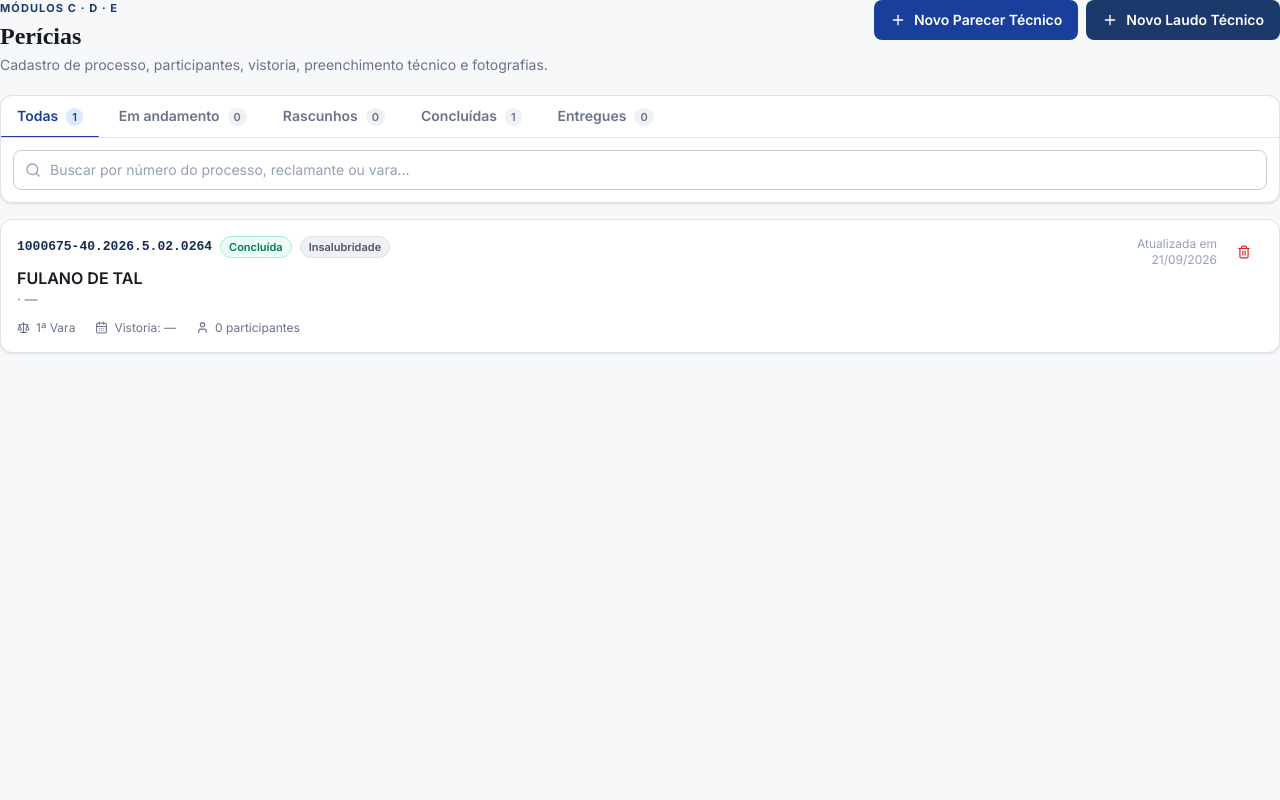
Perícias — exclusão › falha do servidor aparece — não vira um "excluída" que não aconteceu
The width and height of the screenshot is (1280, 800).
Click the button named "Excluir perícia" at coordinates (1244, 252), box [1225,236,1263,268]
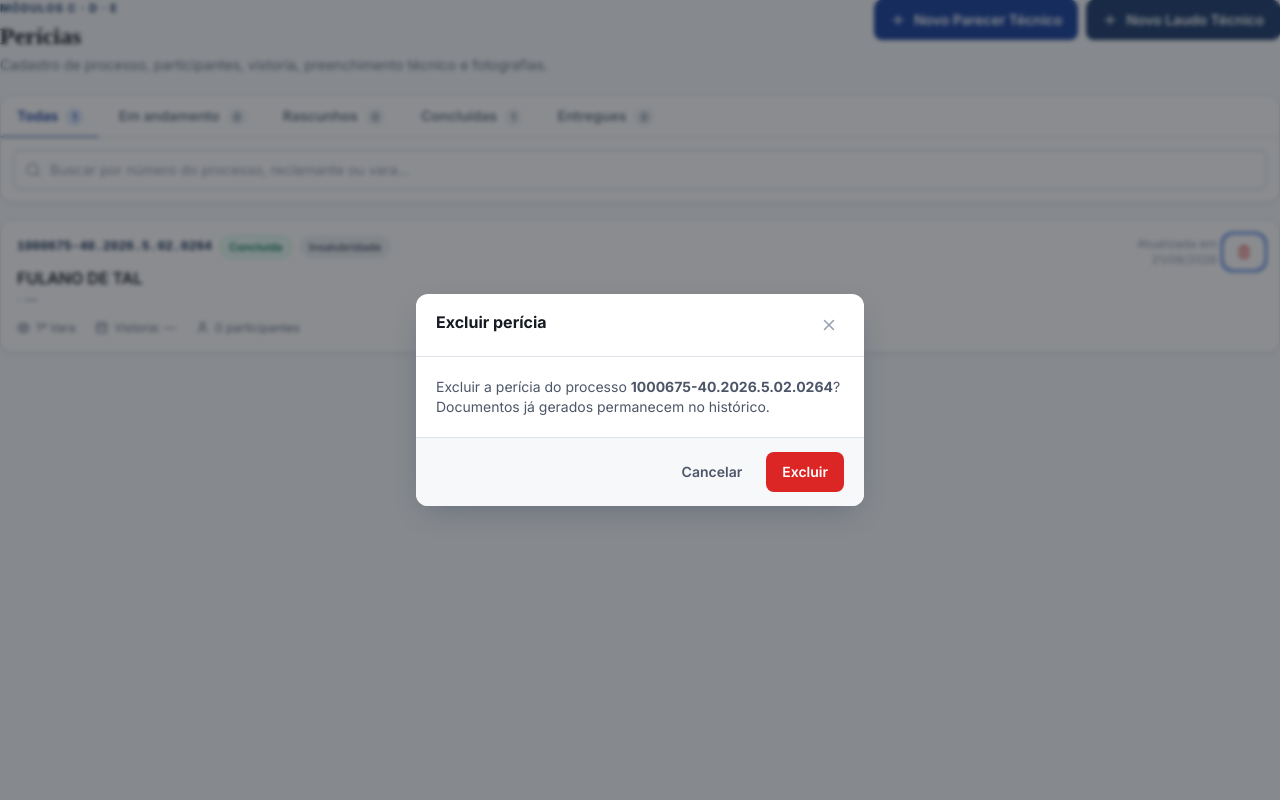
Click the button "Excluir" at coordinates (805, 472), box [766,452,844,492]
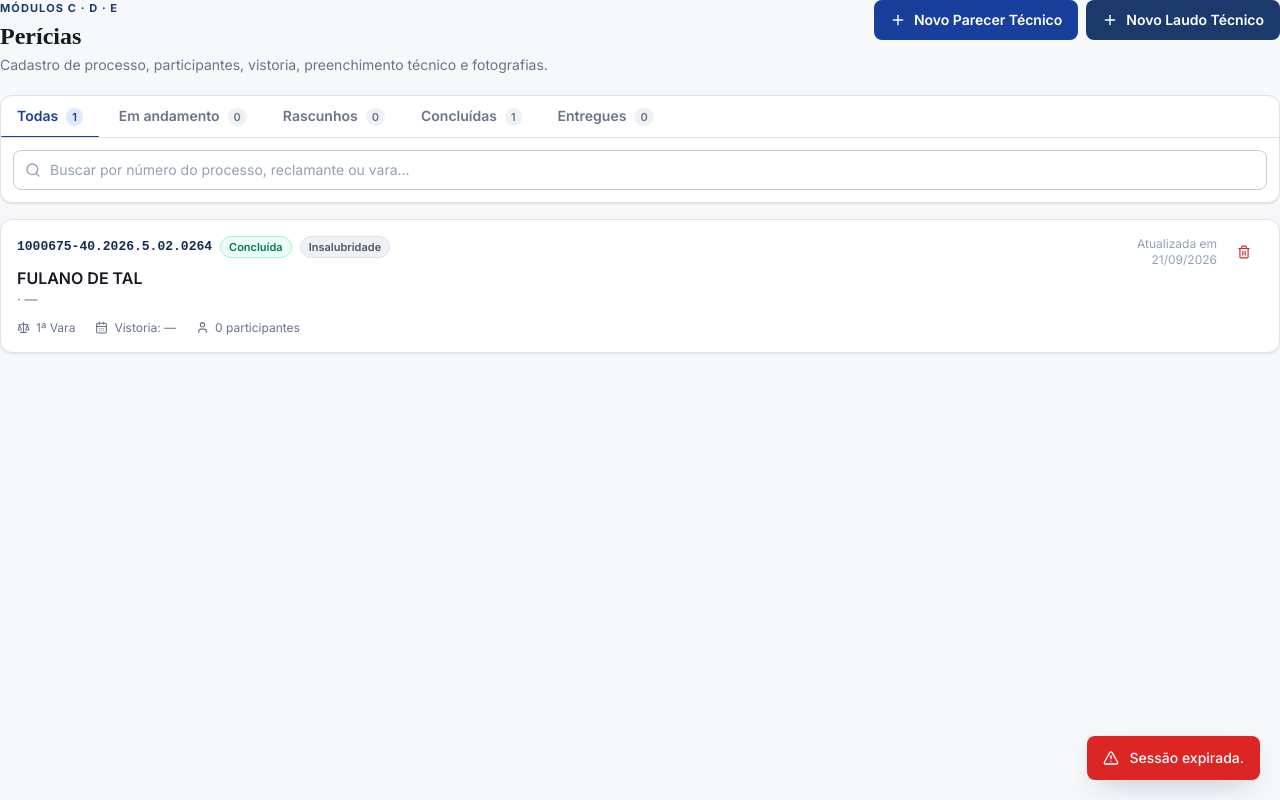
expect the text "Sessão expirada." is shown: met, box [1130,748,1244,768]
